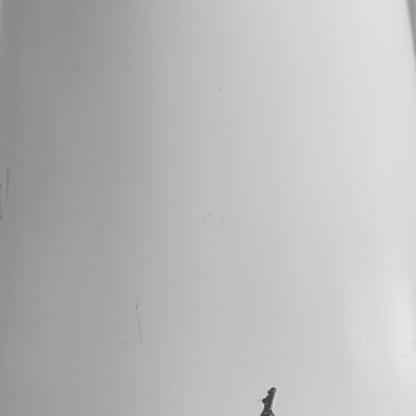kongdong: (256, 384, 281, 416)
